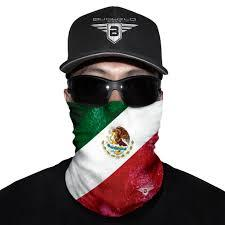cap: (56, 3, 172, 78)
scarf-kerchief: (62, 98, 167, 221)
sunglasses: (65, 71, 161, 109)
